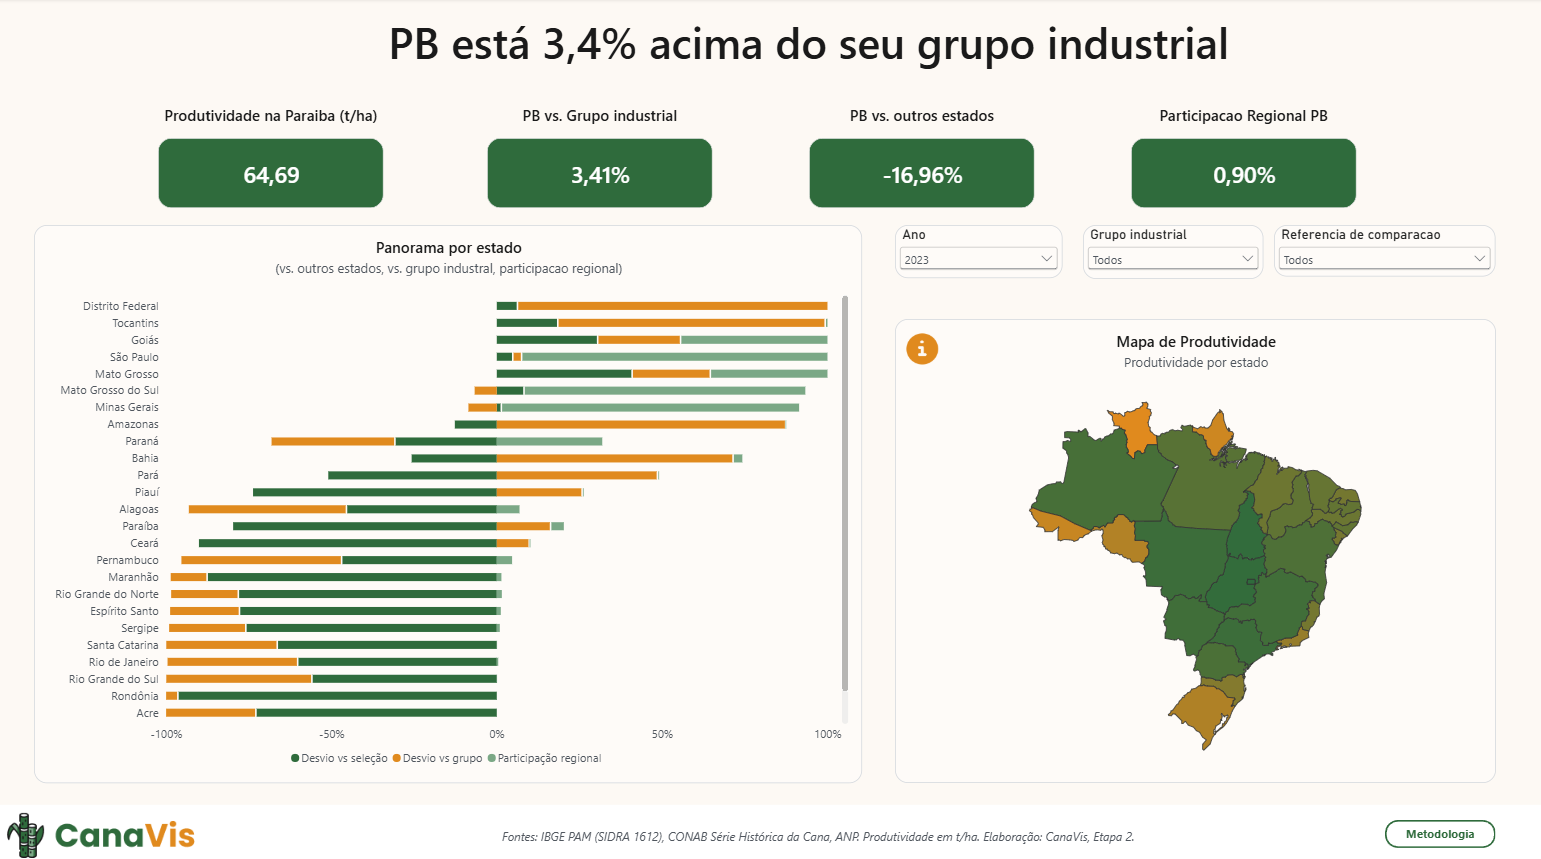

This screenshot's page, from the dashboard's own definition file:
{"tool":"powerbi","page":{"name":"Panorama Nacional","canvas":[1920,1080],"ordinal":0},"visuals":[{"type":"cardVisual","title":"Produtividade na Paraiba (t/ha)","fields":{"Data":["fato_producao_uf.Produtividade (UF)"]},"box":[199.9,132.8,280.1,128.4],"z":0},{"type":"hundredPercentStackedBarChart","title":"Panorama por estado","fields":{"Category":["dim_territorio.nome_territorio"],"Y":["fato_producao.Desvio vs seleção","fato_producao.Desvio vs grupo","fato_producao.Participação regional"]},"box":[45.3,281.3,1028,693.3],"z":1000},{"type":"shapeMap","title":"Mapa de Produtividade","fields":{"Category":["dim_territorio.nome_territorio_sem_acento"],"Value":["fato_producao.Produtividade"]},"box":[1114.7,398.3,745.5,576.3],"z":2000},{"type":"slicer","fields":{"Values":["dim_calendario.ano"]},"box":[1114.7,281.3,207.6,66.2],"z":3000},{"type":"slicer","fields":{"Values":["Referencia de comparacao.Referencia de comparacao"]},"box":[1585.4,281.3,274.6,63.6],"z":4000},{"type":"slicer","fields":{"Values":["dim_territorio.tier"]},"box":[1348.4,281.3,223.6,66.7],"z":5000},{"type":"cardVisual","title":"Participacao Regional PB","fields":{"Data":["fato_producao.Participação regional"]},"box":[1407.9,132.8,280.1,128.4],"z":6000},{"type":"cardVisual","title":"PB vs. Grupo industrial","fields":{"Data":["fato_producao_uf.Desvio vs grupo (UF)"]},"box":[608.4,132.8,280.1,128.4],"z":7000},{"type":"cardVisual","title":"PB vs. outros estados","fields":{"Data":["fato_producao_uf.Desvio vs seleção (UF)"]},"box":[1008.1,132.8,280.1,128.4],"z":8000},{"type":"cardVisual","fields":{"Data":["Referencia de comparacao.Título Panorama"]},"box":[409.3,9.3,1196,86.7],"z":9000},{"type":"textbox","box":[627.4,1030,812.6,49.6],"z":10000},{"type":"actionButton","box":[1722.7,1020,137.3,34.7],"z":11000},{"type":"image","box":[1126.7,409.3,42.7,52],"z":12000}]}

Visuals, with their boxes in screenshot pixels (x1, y1, x2, y2), scaled from the page's 1920x1080 canvas onto the 1541x859 screenshot:
"Produtividade na Paraiba (t/ha)" cardVisual: box(160, 106, 385, 208)
"Panorama por estado" hundredPercentStackedBarChart: box(36, 224, 861, 775)
"Mapa de Produtividade" shapeMap: box(895, 317, 1493, 775)
slicer - dim_calendario.ano: box(895, 224, 1061, 276)
slicer - Referencia de comparacao.Referencia de comparacao: box(1272, 224, 1493, 274)
slicer - dim_territorio.tier: box(1082, 224, 1262, 277)
"Participacao Regional PB" cardVisual: box(1130, 106, 1355, 208)
"PB vs. Grupo industrial" cardVisual: box(488, 106, 713, 208)
"PB vs. outros estados" cardVisual: box(809, 106, 1034, 208)
cardVisual - Referencia de comparacao.Título Panorama: box(329, 7, 1288, 76)
textbox: box(504, 819, 1156, 858)
actionButton: box(1383, 811, 1493, 839)
image: box(904, 326, 939, 367)
